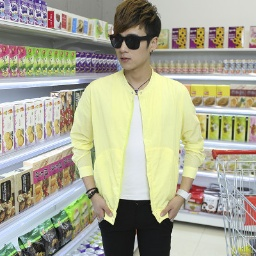face: (110, 1, 161, 70)
